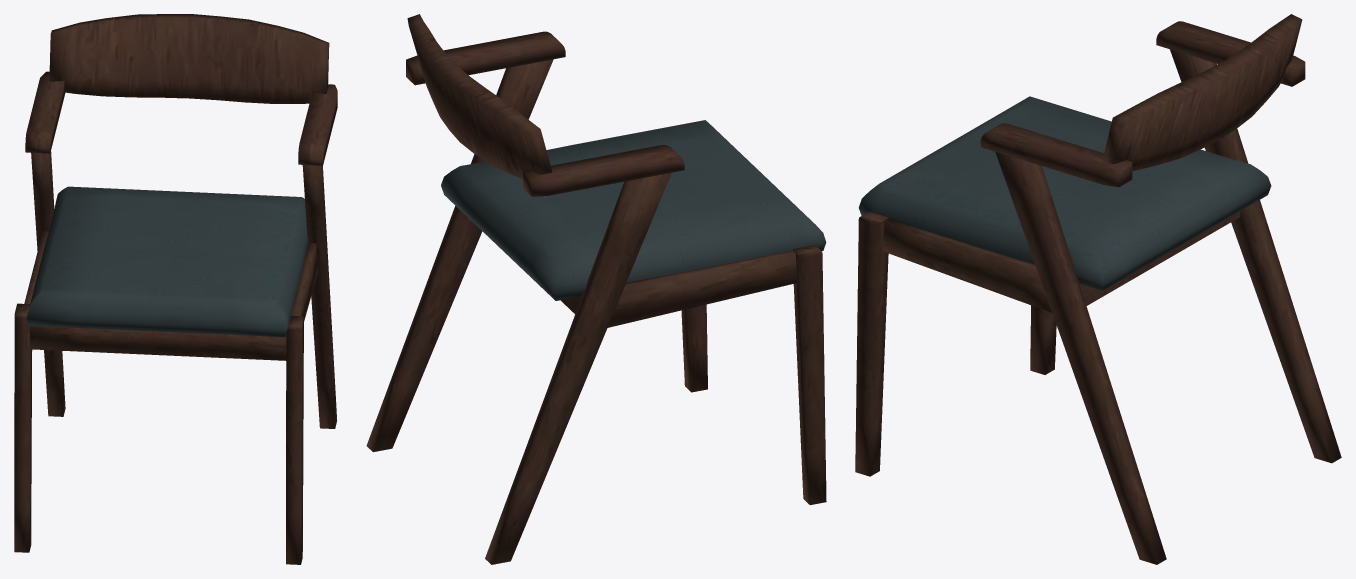
Rendered from chair_midcentury.glb.
3 renders of one model, left to right at view 1: azimuth 30°, elevation 25°; view 2: azimuth 150°, elevation 25°; view 3: azimuth 270°, elevation 25°, orthographic. The views are drawn at different scales.
Visible parts, largest first — view 1: Right Front Leg_Low_Chair_0; view 2: Right Front Leg_Low_Chair_0; view 3: Right Front Leg_Low_Chair_0.
Boxes of the visible parts, box(x1,y1,x2,y2) form: Right Front Leg_Low_Chair_0: box(14, 14, 337, 564); Right Front Leg_Low_Chair_0: box(366, 14, 826, 564); Right Front Leg_Low_Chair_0: box(855, 14, 1341, 564).
Size of the model in its own units: 0.7745 by 0.8 by 0.7959.
Materials: 1 (1 with a texture image).
